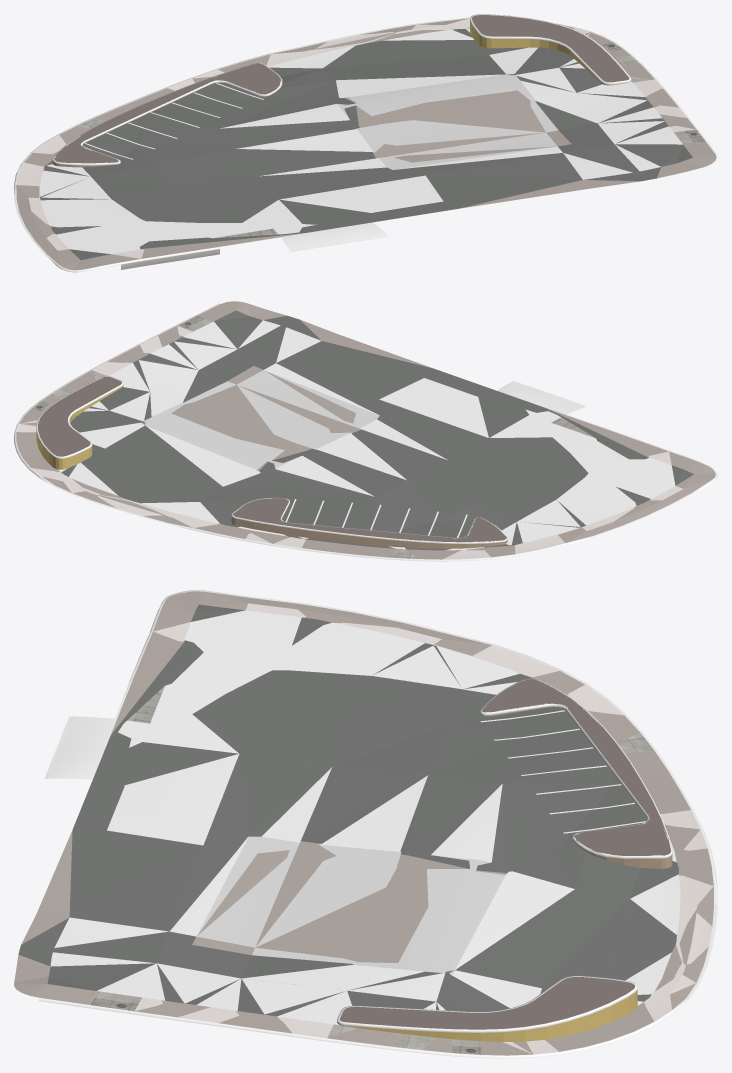
Rendered from sidewalk_gasstation_north.dae.
3 renders of one model, top to bottom at view 1: azimuth 30°, elevation 25°; view 2: azimuth 150°, elevation 25°; view 3: azimuth 270°, elevation 25°, orthographic. The views are drawn at different scales.
Parts seen in each view (by area): view 1: sidewalk_gasstation_north_a500, sidewalk_gasstation_north_a1000; view 2: sidewalk_gasstation_north_a500, sidewalk_gasstation_north_a1000; view 3: sidewalk_gasstation_north_a500, sidewalk_gasstation_north_a1000.
Boxes of the visible parts, left/top/right/bottom form: sidewalk_gasstation_north_a500: left=16, top=15, right=716, bottom=270; sidewalk_gasstation_north_a1000: left=14, top=14, right=717, bottom=272; sidewalk_gasstation_north_a500: left=16, top=301, right=715, bottom=559; sidewalk_gasstation_north_a1000: left=14, top=303, right=717, bottom=561; sidewalk_gasstation_north_a500: left=14, top=591, right=713, bottom=1055; sidewalk_gasstation_north_a1000: left=39, top=590, right=717, bottom=1058.
Size of the model in its own units: 64.06 by 41.92 by 2.32.
